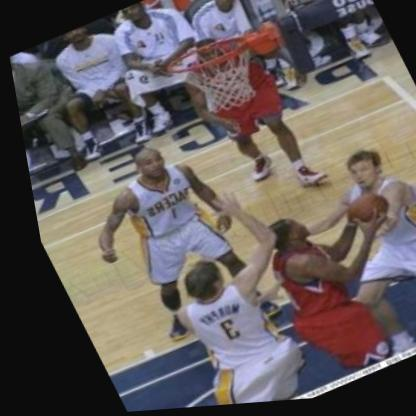basketball: (323, 186, 394, 245)
